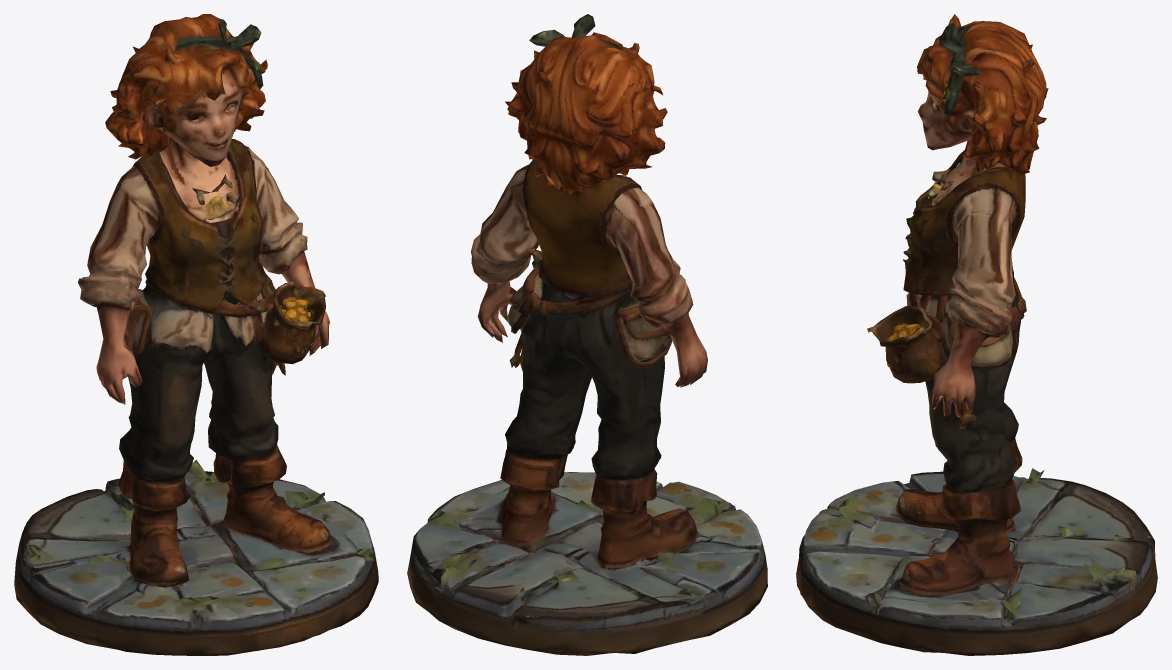
Rendered from hero-tansy.glb.
3 views of the same model, side by side, from view 1: azimuth 30°, elevation 25°; view 2: azimuth 150°, elevation 25°; view 3: azimuth 270°, elevation 25° (orthographic). The views are drawn at different scales.
Visible parts, largest first — view 1: geometry_0; view 2: geometry_0; view 3: geometry_0.
Part boxes in pixels (x1,y1,x2,y2): geometry_0: [14, 14, 378, 655]; geometry_0: [407, 14, 767, 655]; geometry_0: [796, 14, 1157, 655].
Size of the model in its own units: 0.4776 by 0.8141 by 0.4719.
1 material, 1 textured.
